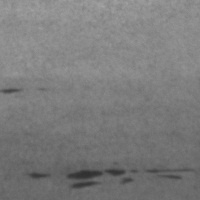inclusion: (63, 165, 199, 191), (25, 167, 53, 184), (0, 83, 33, 96)
